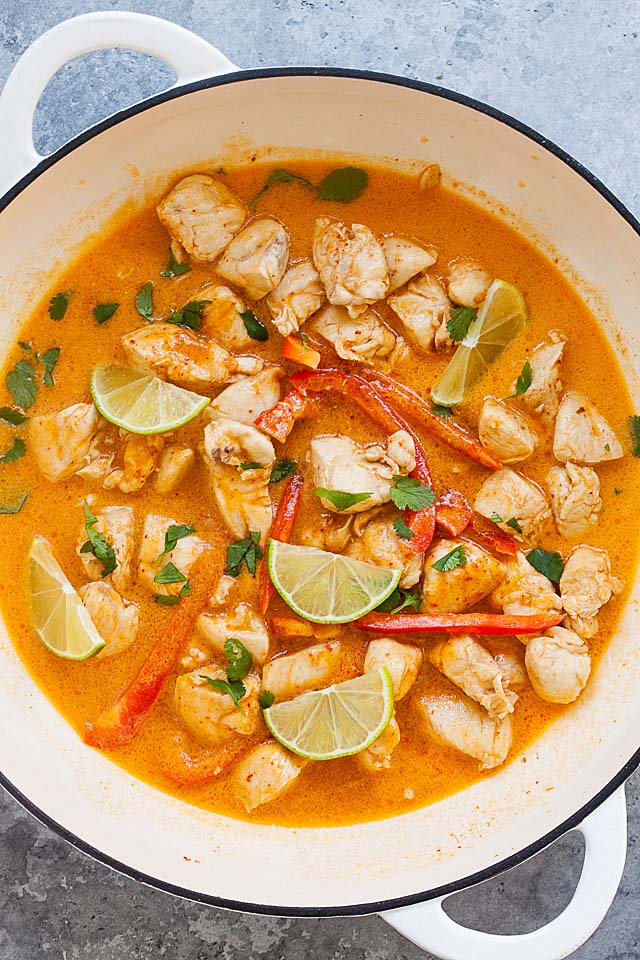chicken_curry: (60, 190, 639, 772)
